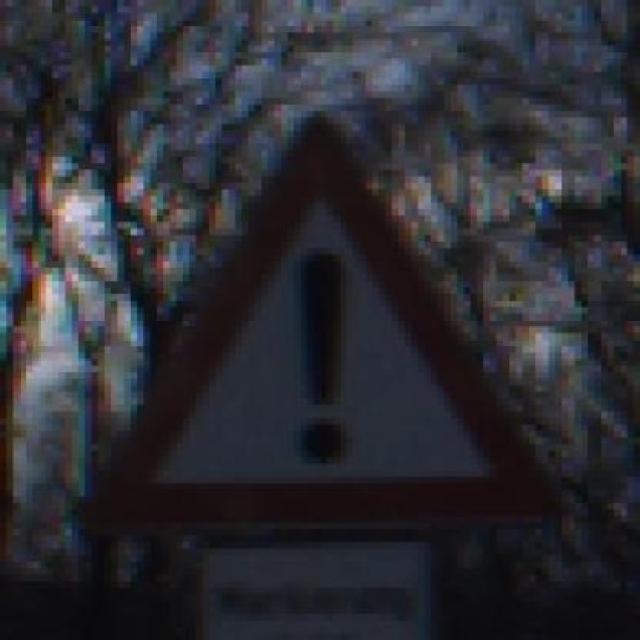Attention Please-: (59, 104, 582, 542)
